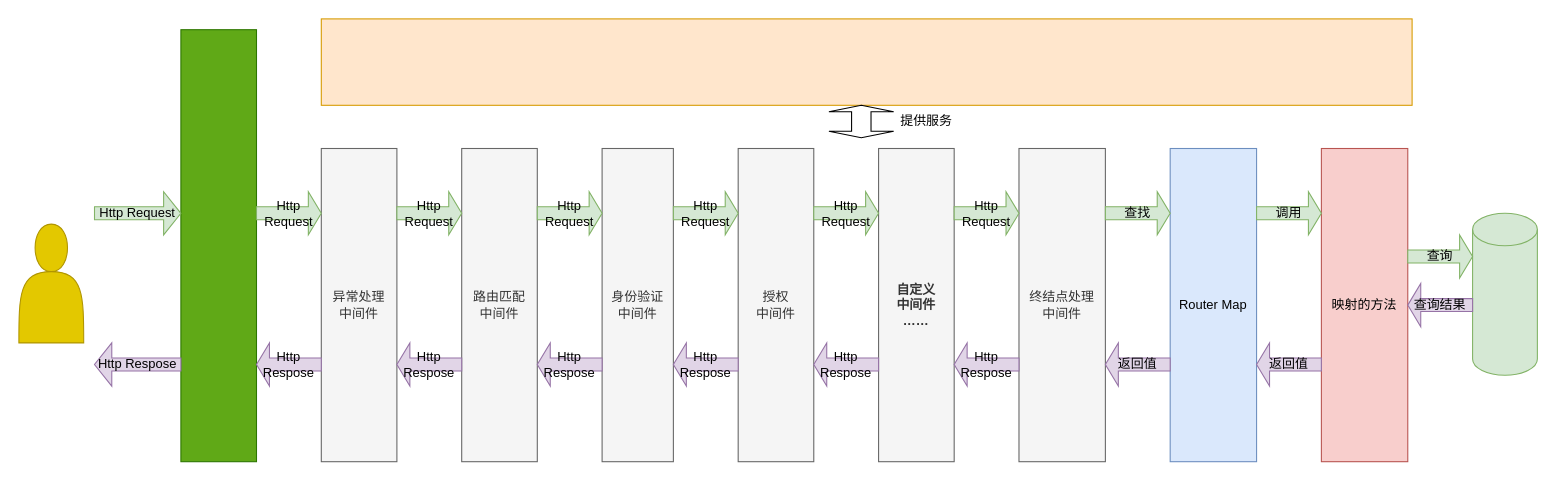
Image size: 1556x481. Some labels were removed from this diagram. The shapes that lost their labels are listed below. From the top down, each one's centre as x and y in pixels, then its label:
(x=866, y=61): 依赖注入的服务
(x=218, y=245): 监听服务
(x=1504, y=293): 数据库
